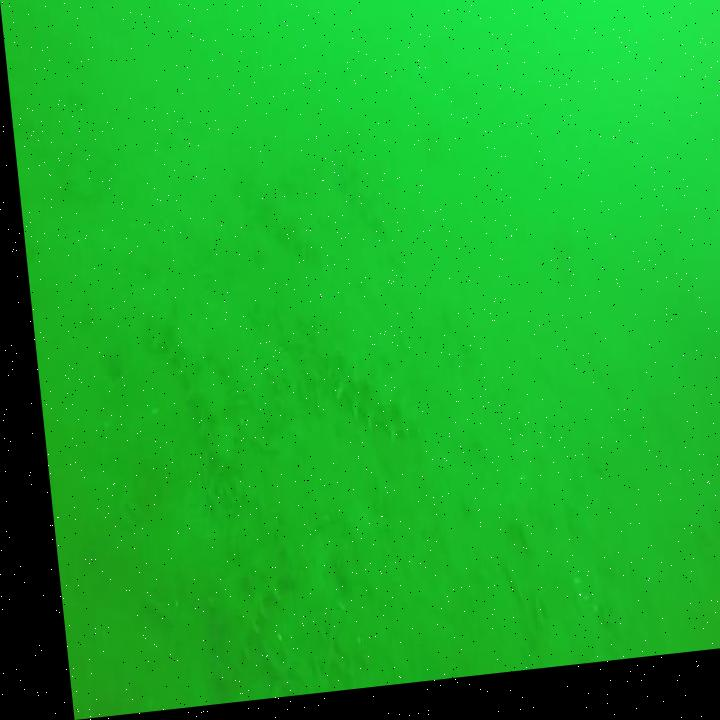holothurian: (135, 303, 241, 495), (181, 538, 293, 708), (306, 341, 401, 447), (232, 175, 319, 283), (327, 160, 390, 249)
